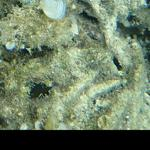dead: (1, 1, 149, 129)
